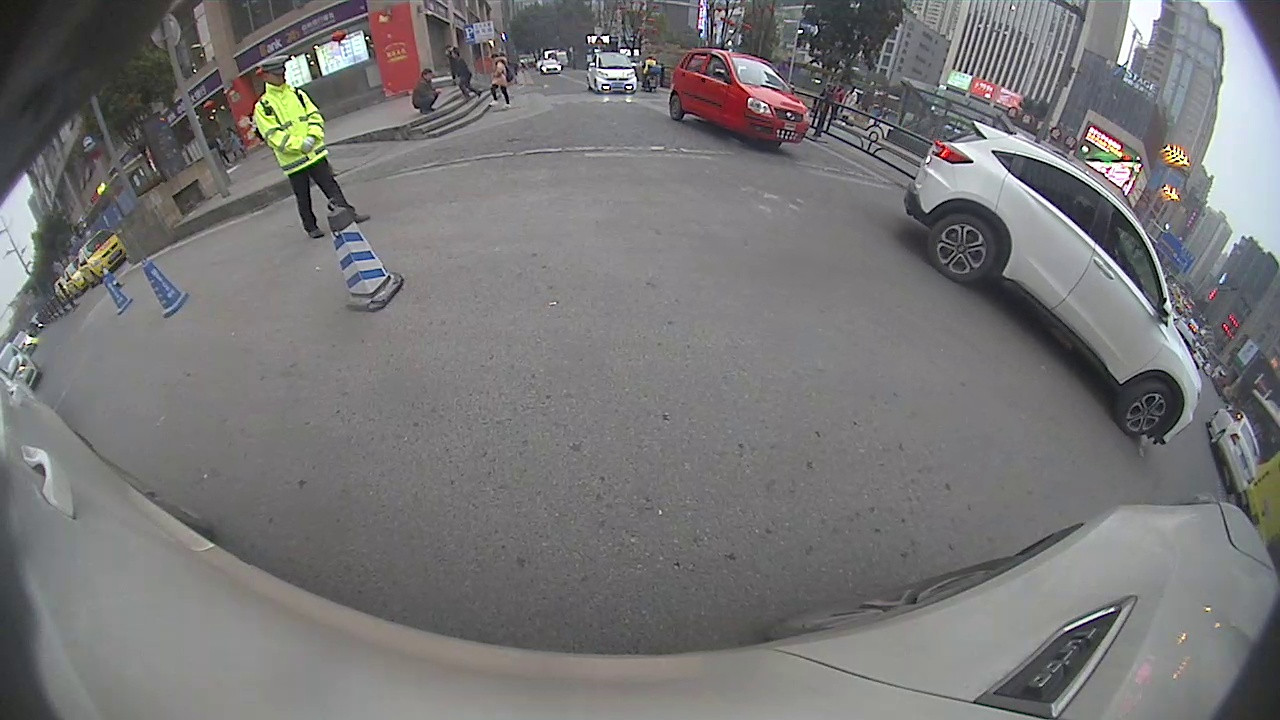car: (903, 122, 1203, 445), (668, 46, 810, 151), (1207, 408, 1261, 496), (586, 54, 638, 95)
front: (1118, 377, 1180, 444)
person: (252, 58, 343, 239), (410, 71, 440, 117), (451, 51, 473, 108), (491, 54, 511, 112)
rear: (928, 215, 999, 283), (666, 90, 684, 123), (1209, 431, 1224, 448)
